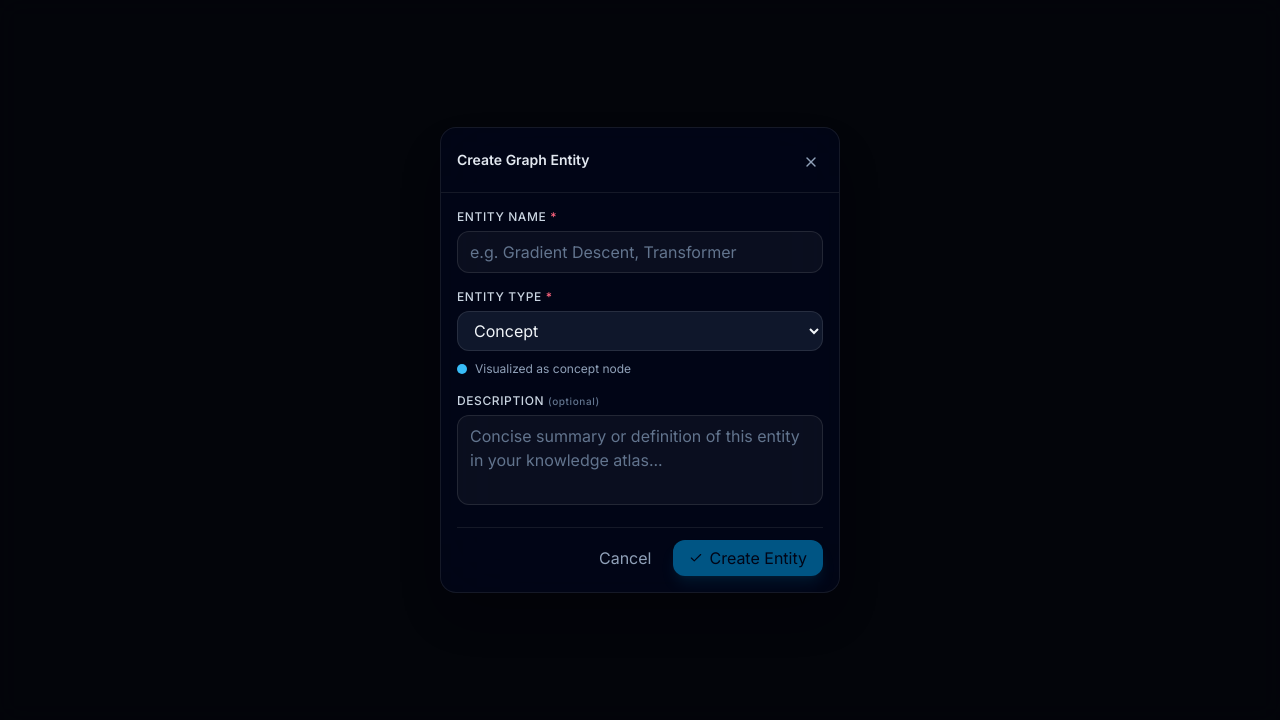
EntityEditor & RelationshipEditor & GraphEditToolbar (§5.7, §14.2) › EntityEditor › handles 409 conflict error when entity name already exists
The image size is (1280, 720).
In the field with test id "entity-name-input": point(640, 252) [457,231,823,273], type "Duplicate"
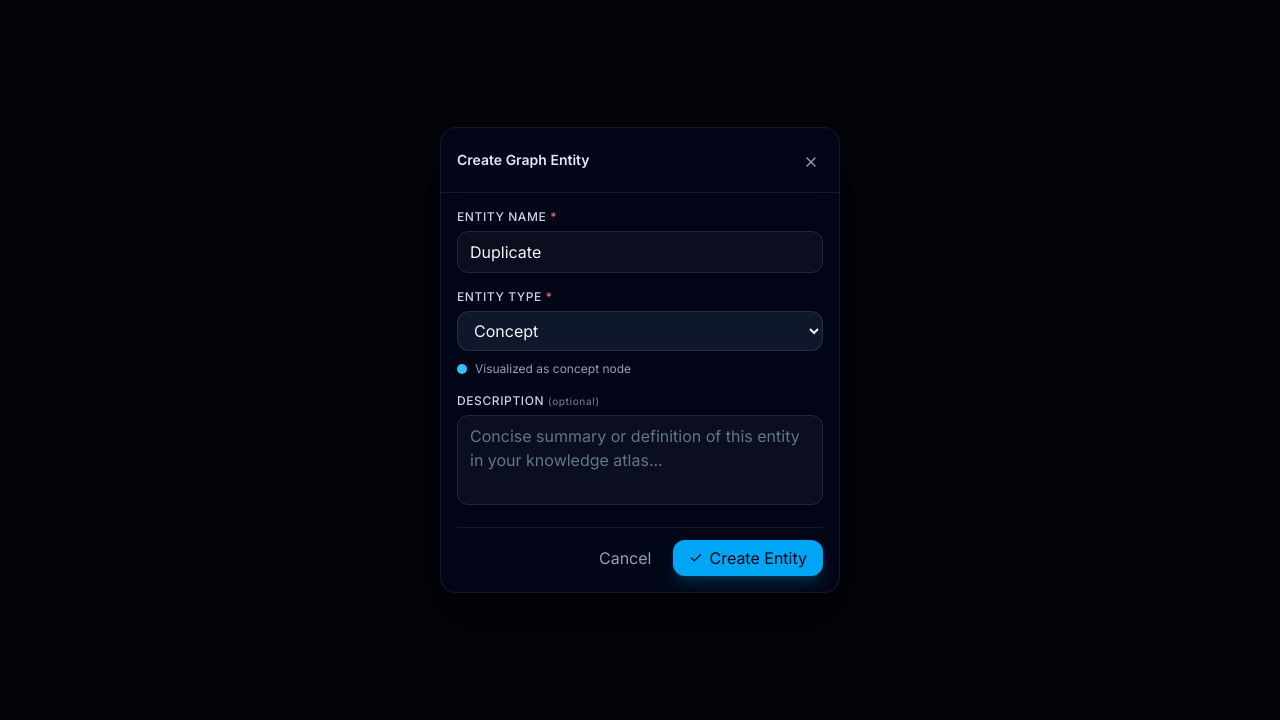
Click the button with test id "entity-submit-btn": point(748, 558) [674,540,823,576]
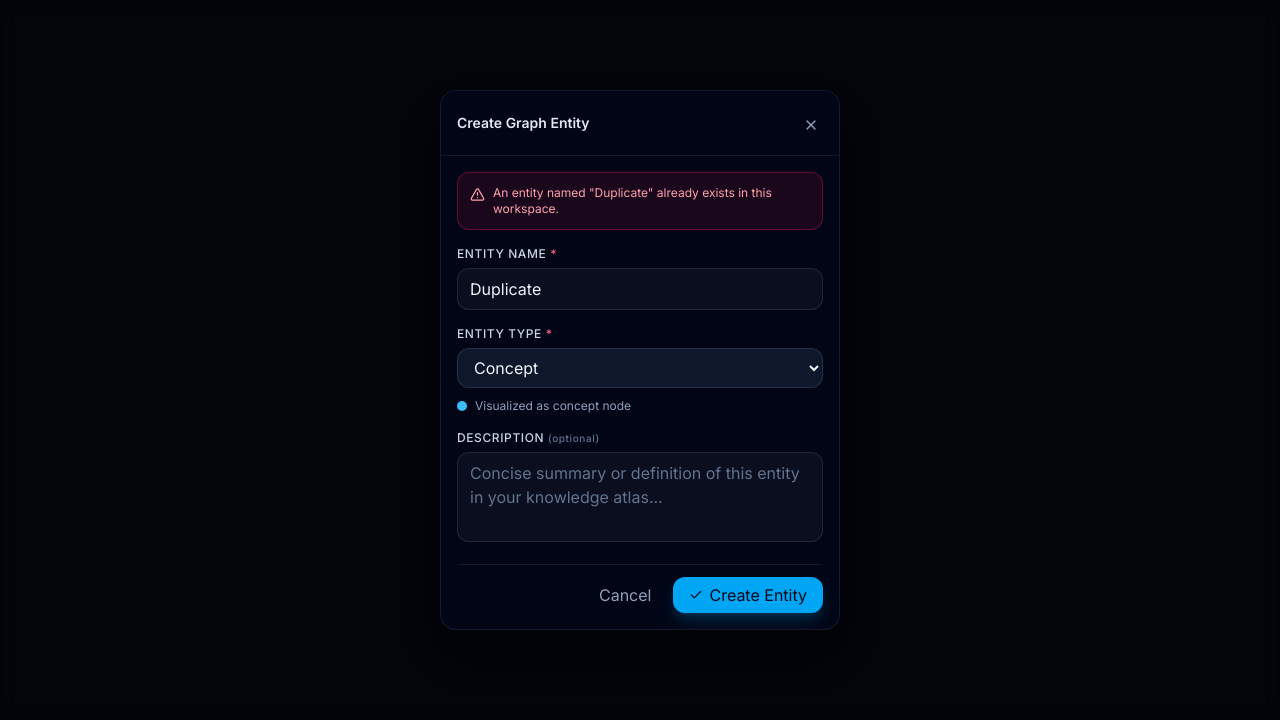
Expected: the element with test id "entity-editor-error" shows "An entity named \"Duplicate\" already exists", [493,185,772,216]
